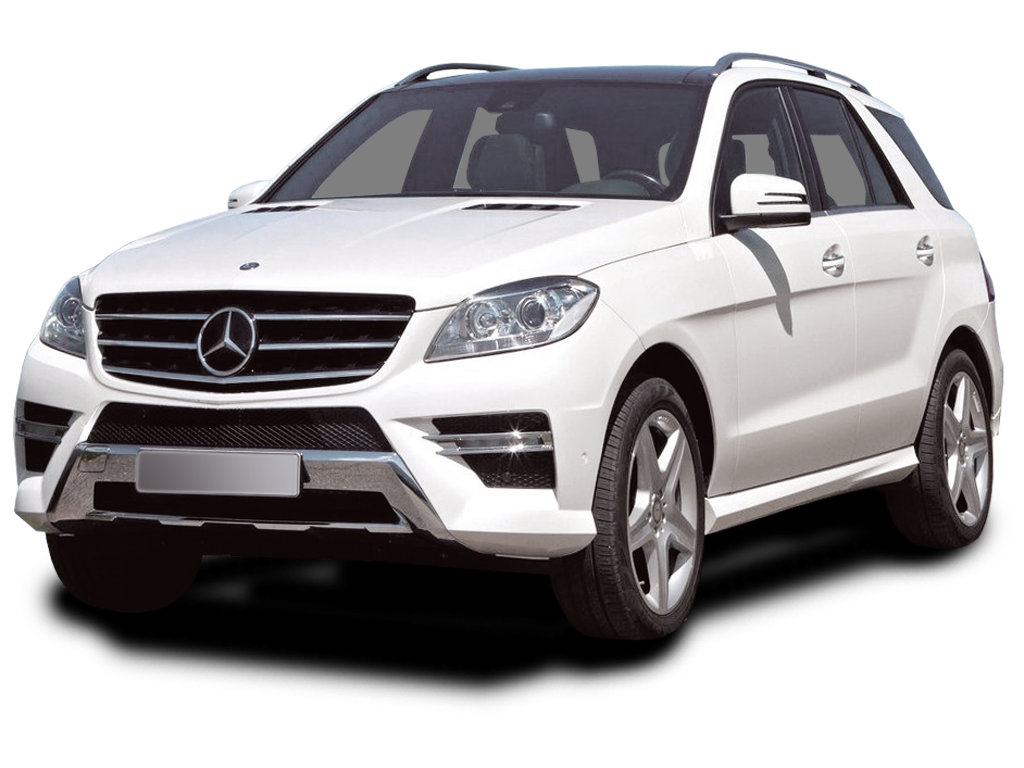P1_: (299, 455, 306, 463)
bbox: (135, 447, 300, 498)
